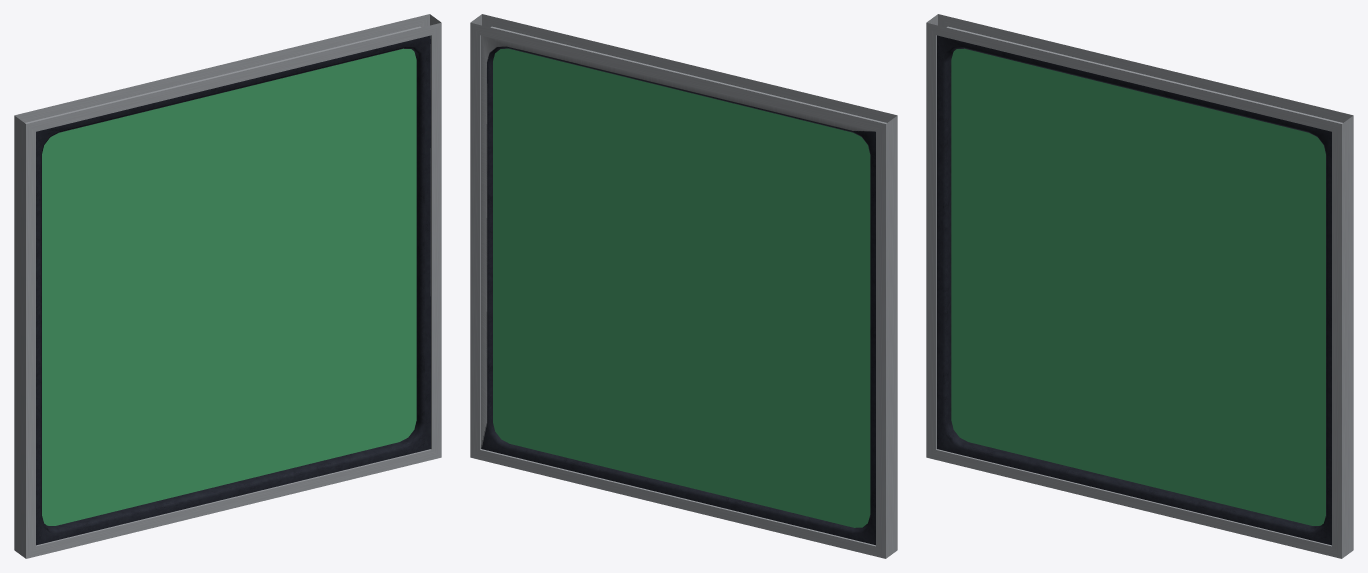
Rendered from Frame.fbx.
3 renders of one model, left to right at view 1: azimuth 30°, elevation 25°; view 2: azimuth 150°, elevation 25°; view 3: azimuth 330°, elevation 25°, orthographic.
Visible parts, largest first — view 1: RubberFrameG1, WindowFrameA1; view 2: RubberFrameG1, WindowFrameA1; view 3: RubberFrameG1, WindowFrameA1.
Boxes of the visible parts, x1=… form: RubberFrameG1: x1=42, y1=48, x2=416, y2=525; WindowFrameA1: x1=14, y1=14, x2=441, y2=558; RubberFrameG1: x1=493, y1=48, x2=870, y2=527; WindowFrameA1: x1=470, y1=14, x2=897, y2=558; RubberFrameG1: x1=951, y1=48, x2=1325, y2=525; WindowFrameA1: x1=926, y1=14, x2=1353, y2=558.
Bounding box in the file's own units: 300 × 300 × 14.83.
